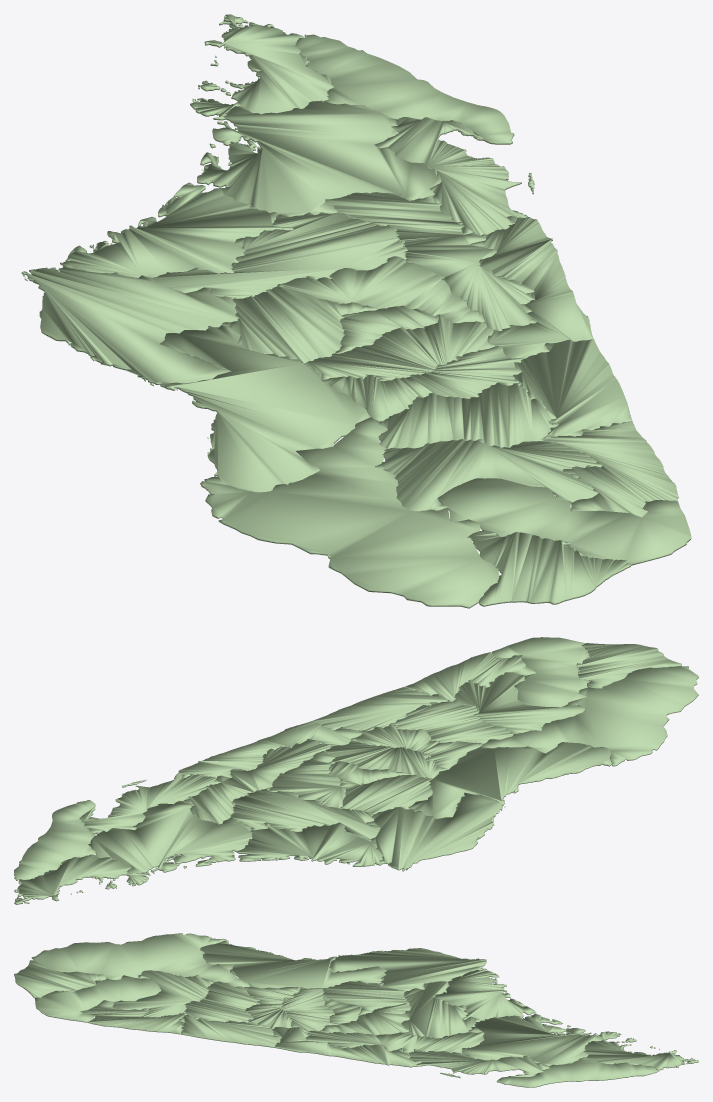
File: madagascar_adm1.glb
The picture shows the model from 3 angles, top to bottom: view 1: azimuth 30°, elevation 25°; view 2: azimuth 150°, elevation 25°; view 3: azimuth 270°, elevation 25°; orthographic projection. The views are drawn at different scales.
Parts seen in each view (by area): view 1: Atsimo-Andrefana, Sofia, Menabe, Melaky, Anosy, Boeny, Betsiboka, Alaotra-Mangoro, Ihorombe, Sava, Atsinanana, Analanjirofo (+10 smaller); view 2: Atsimo-Andrefana, Sofia, Menabe, Melaky, Anosy, Boeny, Betsiboka, Alaotra-Mangoro, Ihorombe, Sava, Atsinanana, Analanjirofo (+10 smaller); view 3: Atsimo-Andrefana, Sofia, Menabe, Melaky, Anosy, Boeny, Betsiboka, Alaotra-Mangoro, Ihorombe, Sava, Atsinanana, Analanjirofo (+10 smaller).
Boxes of the visible parts, bbox=[...] form: Atsimo-Andrefana: bbox=[200, 417, 499, 608]; Sofia: bbox=[197, 100, 441, 216]; Menabe: bbox=[159, 325, 369, 492]; Melaky: bbox=[21, 264, 238, 385]; Anosy: bbox=[437, 478, 691, 565]; Boeny: bbox=[60, 182, 293, 277]; Betsiboka: bbox=[153, 212, 407, 298]; Alaotra-Mangoro: bbox=[325, 192, 536, 330]; Ihorombe: bbox=[375, 439, 602, 511]; Sava: bbox=[295, 34, 514, 144]; Atsinanana: bbox=[470, 216, 593, 358]; Analanjirofo: bbox=[374, 117, 534, 235]; Atsimo-Andrefana: bbox=[480, 666, 698, 766]; Sofia: bbox=[88, 801, 252, 873]; Menabe: bbox=[408, 742, 611, 818]; Melaky: bbox=[366, 792, 505, 871]; Anosy: bbox=[491, 637, 590, 707]; Boeny: bbox=[236, 822, 382, 866]; Betsiboka: bbox=[231, 787, 380, 839]; Alaotra-Mangoro: bbox=[181, 739, 331, 824]; Ihorombe: bbox=[454, 672, 585, 733]; Sava: bbox=[14, 800, 96, 880]; Atsinanana: bbox=[178, 721, 362, 777]; Analanjirofo: bbox=[79, 773, 221, 835]; Atsimo-Andrefana: bbox=[31, 933, 250, 987]; Sofia: bbox=[462, 1014, 602, 1065]; Menabe: bbox=[200, 940, 386, 988]; Melaky: bbox=[329, 948, 486, 990]; Anosy: bbox=[35, 975, 161, 1022]; Boeny: bbox=[432, 968, 536, 1020]; Betsiboka: bbox=[401, 981, 480, 1038]; Alaotra-Mangoro: bbox=[305, 1030, 484, 1053]; Ihorombe: bbox=[112, 970, 213, 1017]; Sava: bbox=[496, 1057, 659, 1087]; Atsinanana: bbox=[272, 1027, 421, 1067]; Analanjirofo: bbox=[408, 1049, 551, 1078].
Size of the model in its own units: 7.25 by 0.0401 by 13.65.
